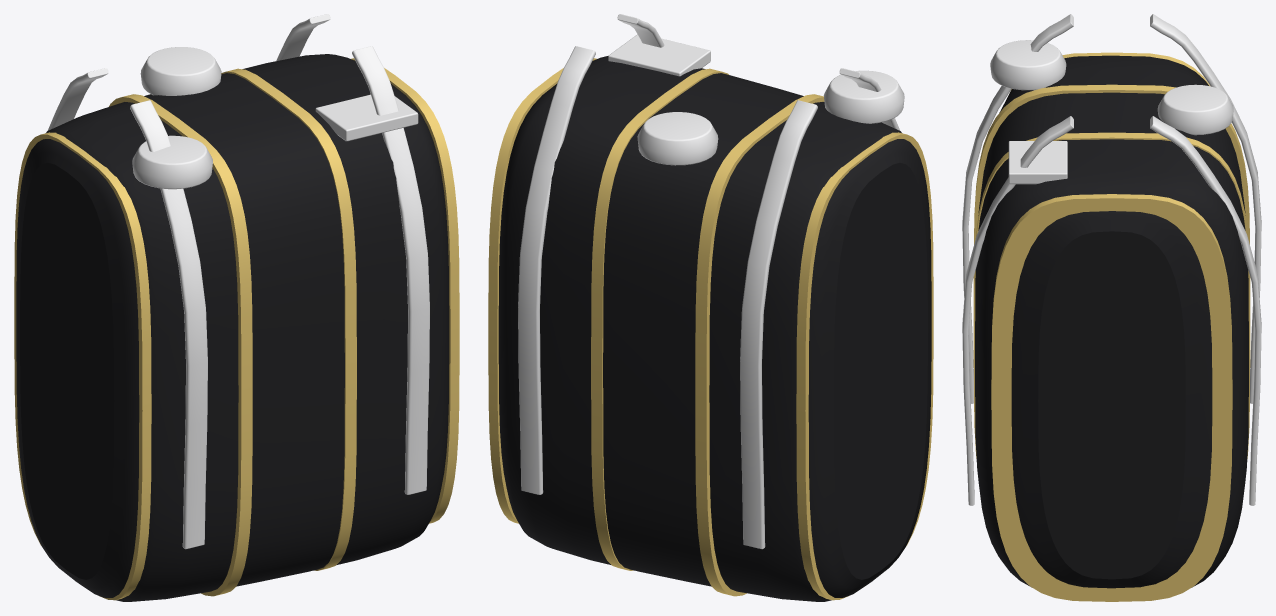
Rendered from bike_pioneer__fuel_tank.glb.
3 renders of one model, left to right at view 1: azimuth 30°, elevation 25°; view 2: azimuth 150°, elevation 25°; view 3: azimuth 270°, elevation 25°, orthographic. The views are drawn at different scales.
Visible parts, largest first — view 1: frame_body__fuel_tank, frame_body__fuel_tank__gold_bands, frame_body__fuel_tank__straps, frame_body__fuel_tank__filler_caps; view 2: frame_body__fuel_tank, frame_body__fuel_tank__gold_bands, frame_body__fuel_tank__straps, frame_body__fuel_tank__filler_caps; view 3: frame_body__fuel_tank, frame_body__fuel_tank__gold_bands, frame_body__fuel_tank__straps, frame_body__fuel_tank__filler_caps.
Boxes of the visible parts, bbox=[...] form: frame_body__fuel_tank: bbox=[16, 54, 449, 601]; frame_body__fuel_tank__gold_bands: bbox=[14, 58, 459, 600]; frame_body__fuel_tank__straps: bbox=[47, 14, 429, 549]; frame_body__fuel_tank__filler_caps: bbox=[132, 47, 418, 189]; frame_body__fuel_tank: bbox=[498, 56, 931, 601]; frame_body__fuel_tank__gold_bands: bbox=[488, 58, 933, 600]; frame_body__fuel_tank__straps: bbox=[518, 14, 900, 549]; frame_body__fuel_tank__filler_caps: bbox=[608, 34, 904, 165]; frame_body__fuel_tank: bbox=[975, 55, 1248, 588]; frame_body__fuel_tank__gold_bands: bbox=[973, 52, 1250, 601]; frame_body__fuel_tank__straps: bbox=[962, 14, 1261, 505]; frame_body__fuel_tank__filler_caps: bbox=[990, 40, 1233, 184].
Bounding box in the file's own units: 14.9 × 20.99 × 12.15.
